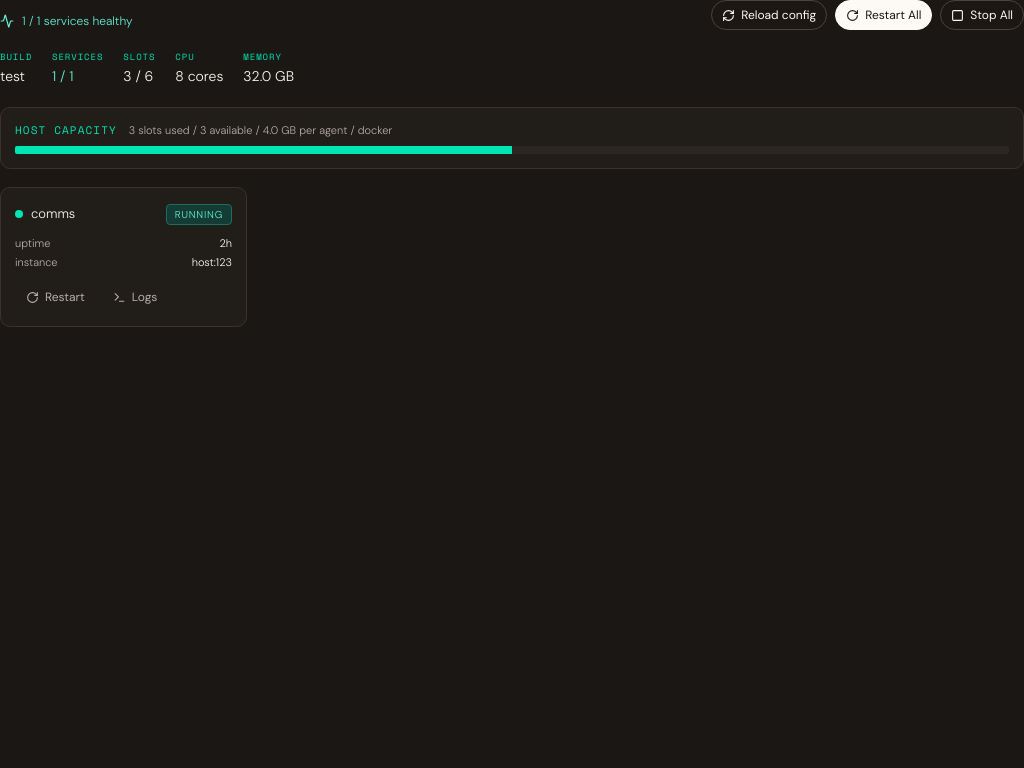
Test case: Infrastructure › loads service logs
Expected: the text "comms" is shown, [31, 204, 75, 223]
Click the button "Logs" at (135, 297), box [102, 282, 168, 312]
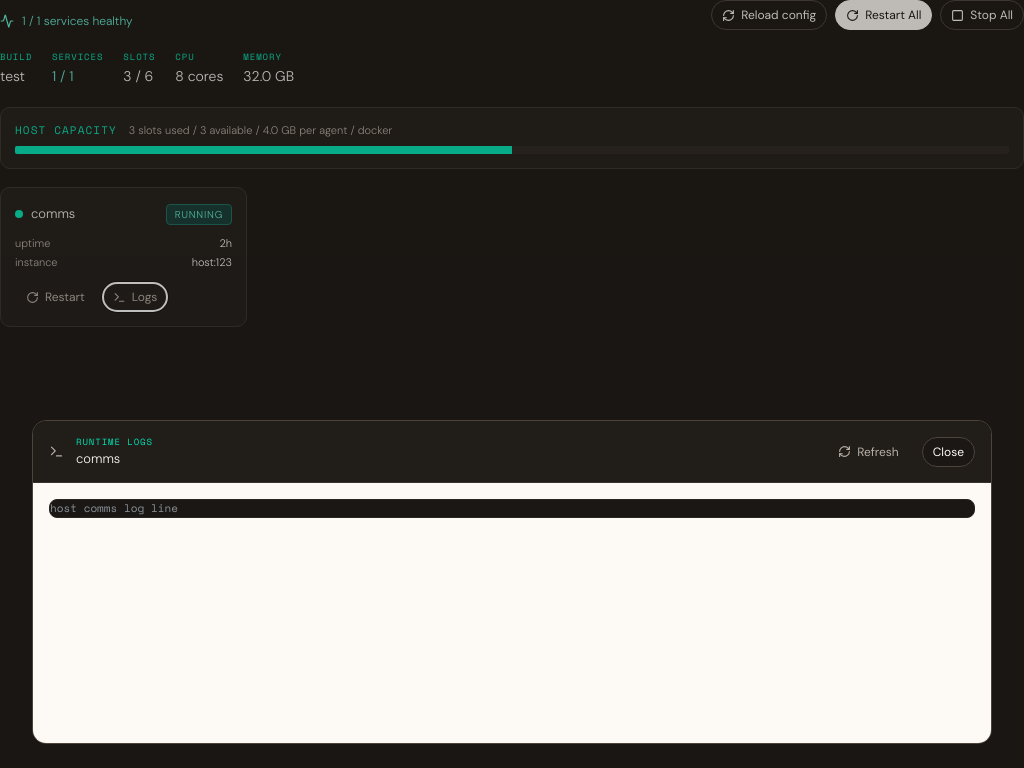
Now the text "host comms log line" is shown, box [49, 499, 975, 518]
